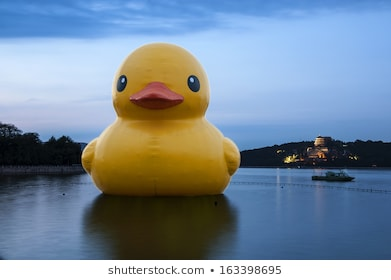duck: (69, 34, 249, 219)
